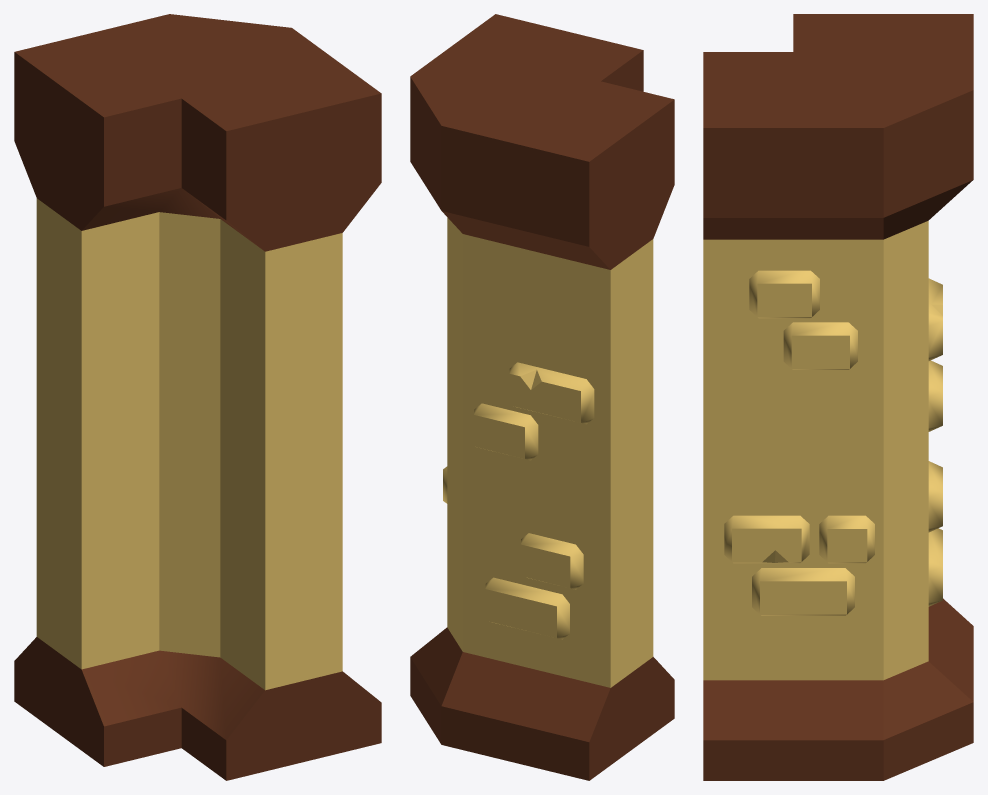
The model's file is wall_corner_small.fbx.
3 renders of one model, left to right at view 1: azimuth 30°, elevation 25°; view 2: azimuth 150°, elevation 25°; view 3: azimuth 270°, elevation 25°, orthographic. The views are drawn at different scales.
Visible parts, largest first — view 1: wall_corner_small; view 2: wall_corner_small; view 3: wall_corner_small.
Part boxes in pixels (x1,y1,x2,y2): wall_corner_small: (14, 14, 381, 780); wall_corner_small: (410, 14, 674, 780); wall_corner_small: (703, 14, 973, 780).
Size of the model in its own units: 150 by 400 by 150.
